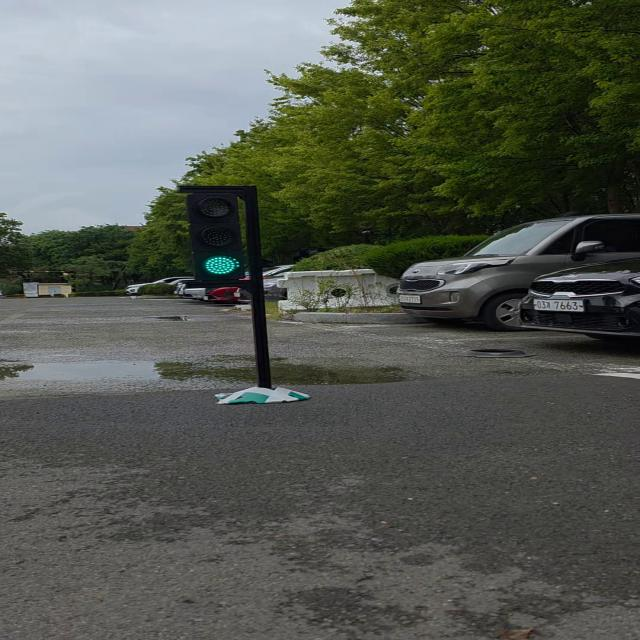green: (187, 188, 256, 284)
